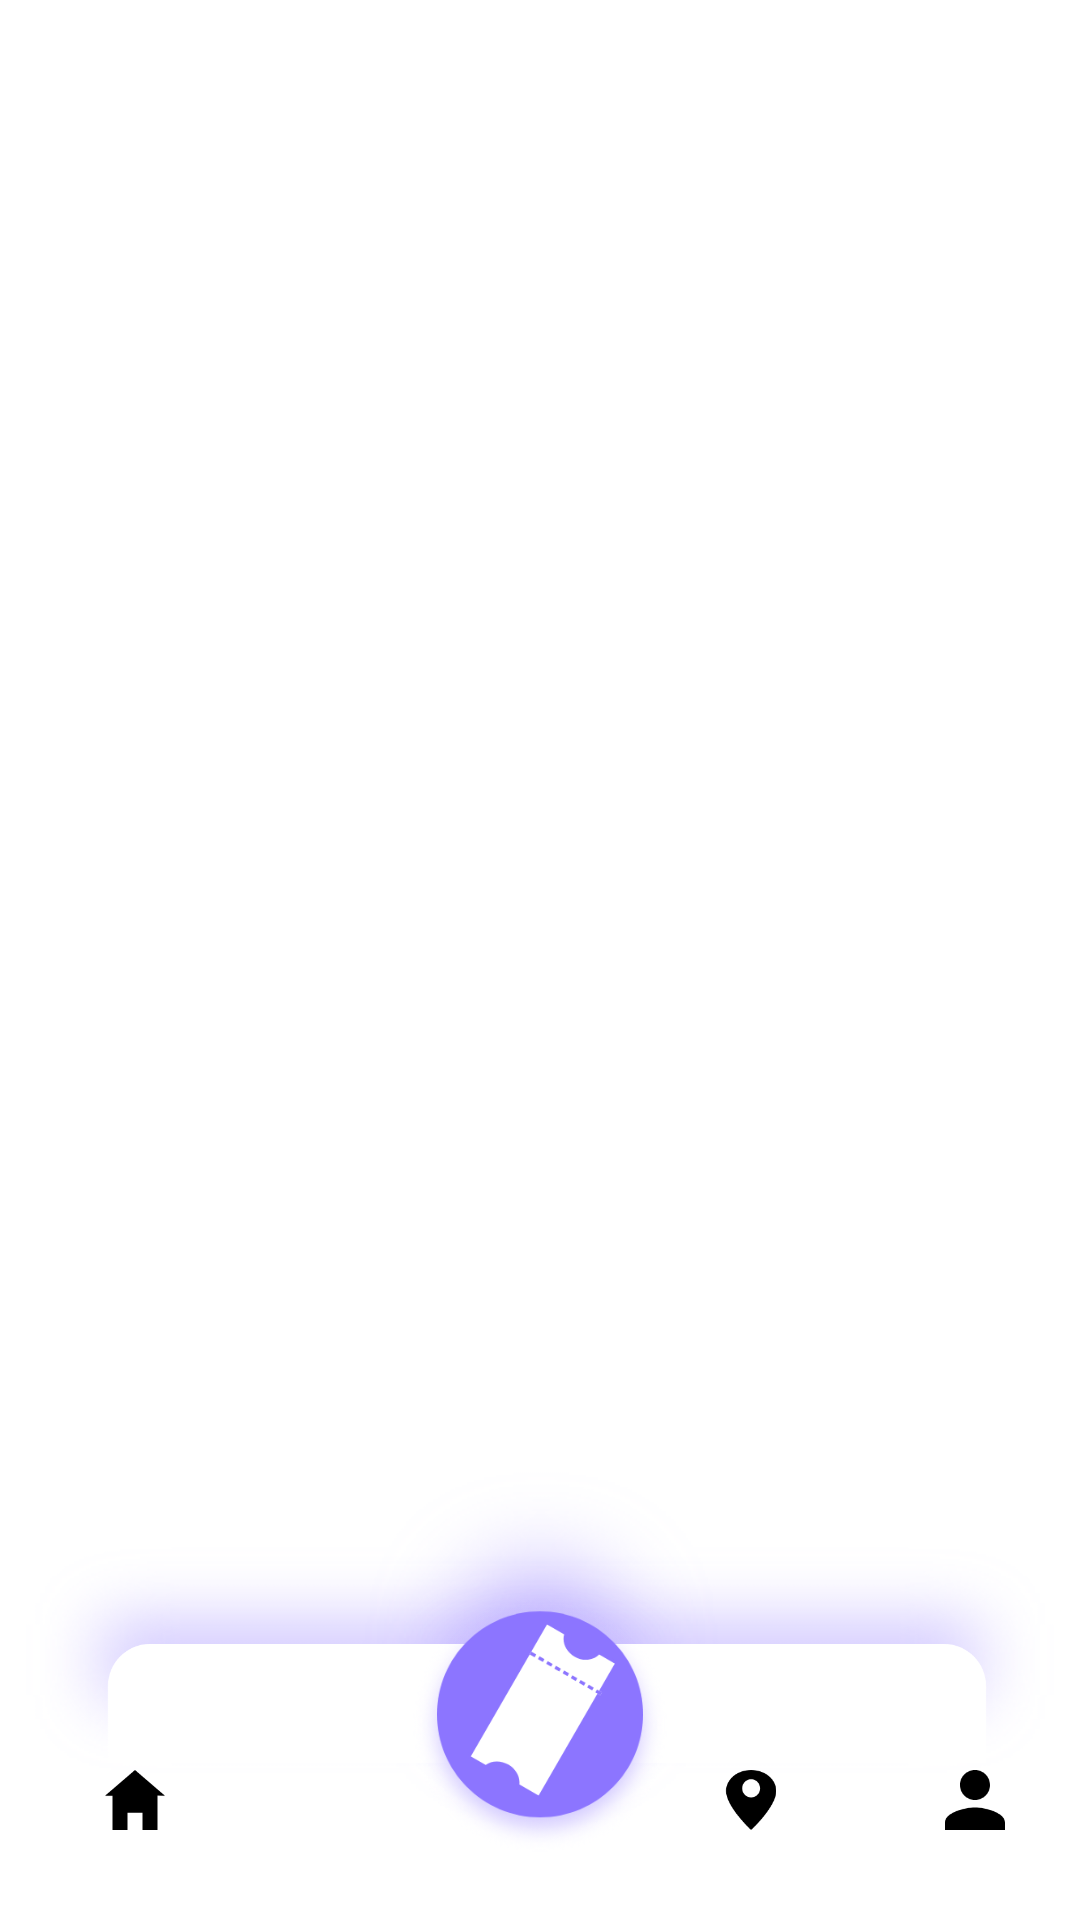

Named icons in this screenshot (1080×1920) and their centers, point (x, y):
homeicon: point (135, 1800)
personicon: point (975, 1800)
placeicon: point (751, 1800)
